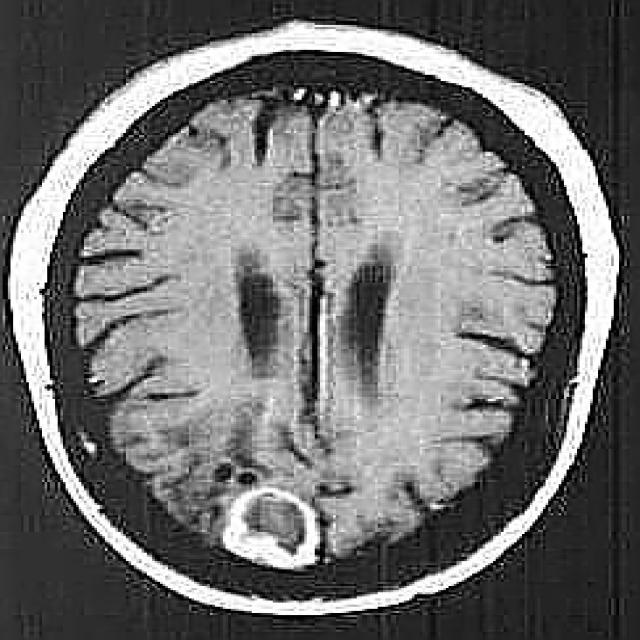Tumor-Cell: (232, 473, 329, 568)
